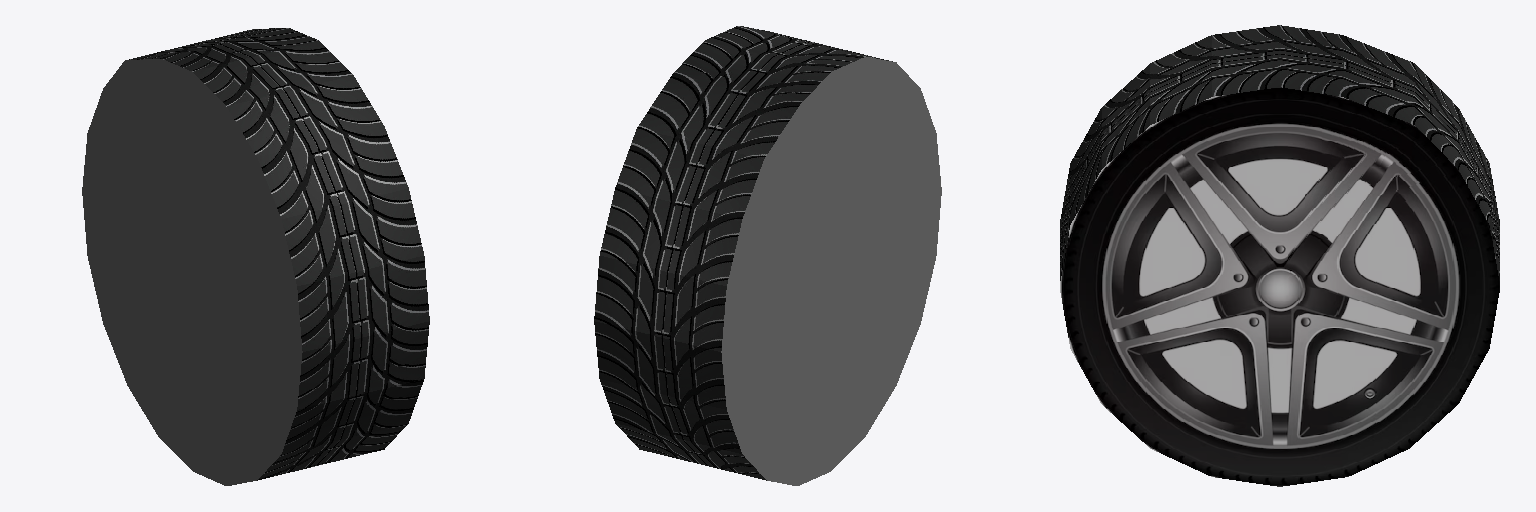
3 views of the same model, side by side, from view 1: azimuth 30°, elevation 25°; view 2: azimuth 150°, elevation 25°; view 3: azimuth 270°, elevation 25° (orthographic).
Parts seen in each view (by area): view 1: pasted__pasted__pCylinder1 pasted__group14 group; view 2: pasted__pasted__pCylinder1 pasted__group14 group; view 3: pasted__pasted__pCylinder1 pasted__group14 group.
Part boxes in pixels (left/top/right/bottom): pasted__pasted__pCylinder1 pasted__group14 group: left=82, top=28, right=429, bottom=485; pasted__pasted__pCylinder1 pasted__group14 group: left=594, top=26, right=941, bottom=485; pasted__pasted__pCylinder1 pasted__group14 group: left=1060, top=25, right=1499, bottom=486.
Bounding box in the file's own units: 0.4323 × 1.3 × 1.3.
Materials: 3 (2 with a texture image).